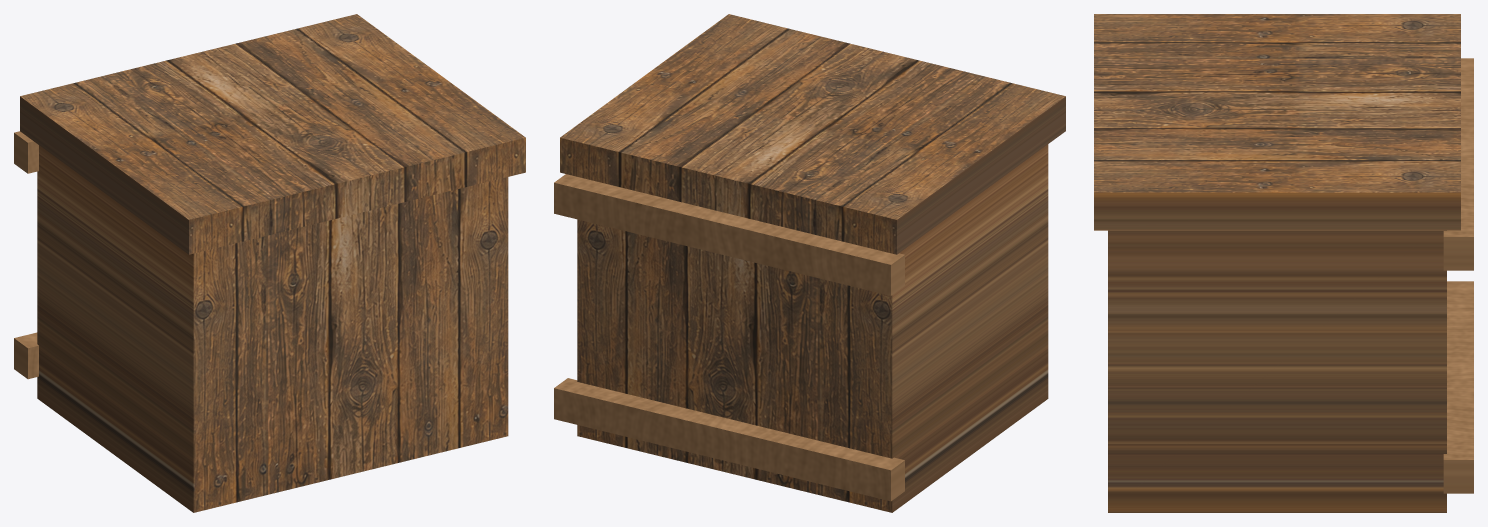
The model's file is crate_visual.glb.
The picture shows the model from 3 angles, left to right: view 1: azimuth 30°, elevation 25°; view 2: azimuth 150°, elevation 25°; view 3: azimuth 270°, elevation 25°; orthographic projection. The views are drawn at different scales.
Visible parts, largest first — view 1: decorative_crate_body_01, decorative_crate_lid_01, decorative_crate_band_01, decorative_crate_band_02; view 2: decorative_crate_body_01, decorative_crate_lid_01, decorative_crate_band_01, decorative_crate_band_02; view 3: decorative_crate_body_01, decorative_crate_lid_01, decorative_crate_band_01, decorative_crate_band_02.
Part boxes in pixels (x1,y1,x2,y2): decorative_crate_body_01: [37, 145, 508, 512]; decorative_crate_lid_01: [20, 14, 525, 254]; decorative_crate_band_01: [14, 332, 38, 379]; decorative_crate_band_02: [14, 131, 38, 173]; decorative_crate_body_01: [577, 144, 1048, 512]; decorative_crate_lid_01: [560, 14, 1065, 254]; decorative_crate_band_01: [554, 378, 904, 501]; decorative_crate_band_02: [554, 174, 904, 295]; decorative_crate_body_01: [1108, 230, 1446, 512]; decorative_crate_lid_01: [1094, 14, 1460, 230]; decorative_crate_band_01: [1443, 281, 1473, 493]; decorative_crate_band_02: [1443, 58, 1473, 270].
Bounding box in the file's own units: 0.91 × 0.775 × 0.8175.
Materials: 2 (2 with a texture image).
